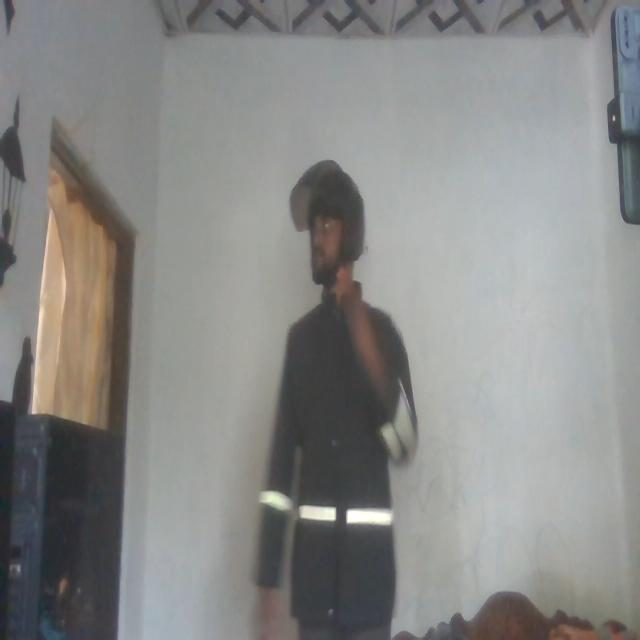Helmet_Wearer: (282, 154, 380, 304)
Jacket_Wearer: (274, 290, 418, 624)
Person: (236, 151, 412, 640)
